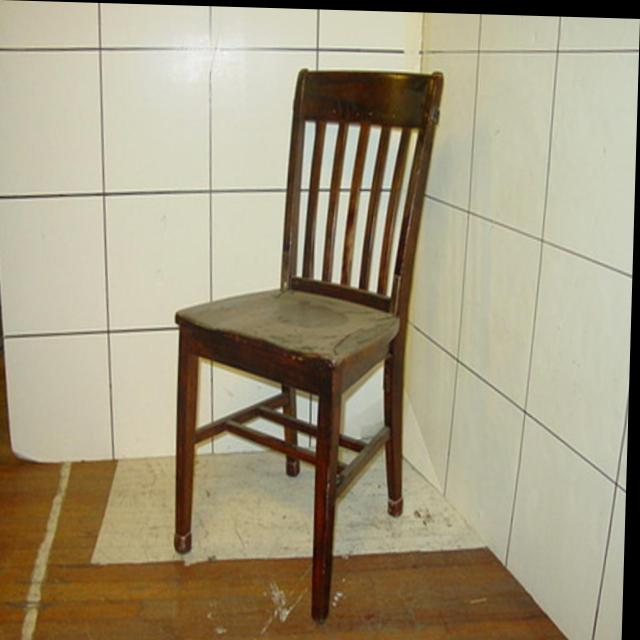Chair: (169, 62, 443, 619)
